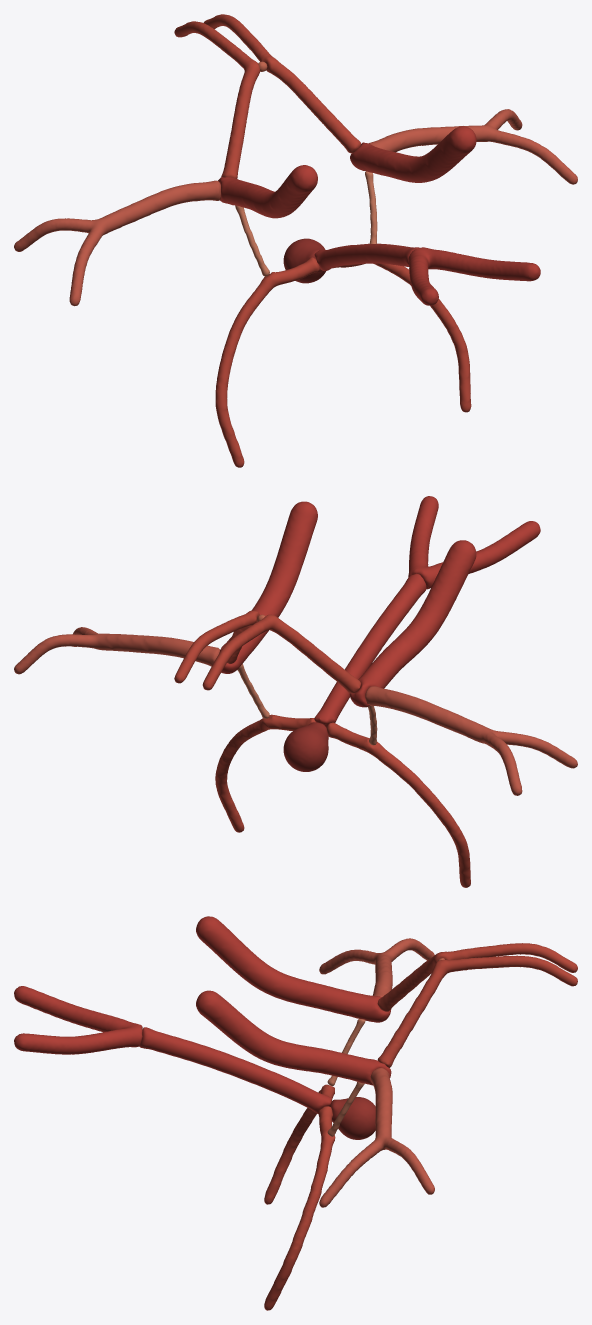
The model's file is willis_basilar_aneurysm.glb.
The picture shows the model from 3 angles, top to bottom: view 1: azimuth 30°, elevation 25°; view 2: azimuth 150°, elevation 25°; view 3: azimuth 270°, elevation 25°; orthographic projection. The views are drawn at different scales.
Visible parts, largest first — view 1: middle_cerebrals, internal_carotids, anterior_cerebrals, posterior_cerebrals, vertebral_arteries, basilar_artery, posterior_communicatings, aneurysm; view 2: internal_carotids, middle_cerebrals, posterior_cerebrals, anterior_cerebrals, basilar_artery, vertebral_arteries, aneurysm, posterior_communicatings; view 3: internal_carotids, anterior_cerebrals, middle_cerebrals, vertebral_arteries, basilar_artery, posterior_cerebrals, aneurysm, posterior_communicatings.
Boxes of the visible parts, <box> form: middle_cerebrals: <box>14,109,577,306</box>; internal_carotids: <box>218,126,476,218</box>; anterior_cerebrals: <box>174,14,360,178</box>; posterior_cerebrals: <box>215,257,471,467</box>; vertebral_arteries: <box>408,247,540,305</box>; basilar_artery: <box>314,243,419,271</box>; posterior_communicatings: <box>235,171,377,276</box>; aneurysm: <box>283,238,325,283</box>; internal_carotids: <box>219,501,476,707</box>; middle_cerebrals: <box>14,627,577,795</box>; posterior_cerebrals: <box>215,714,470,887</box>; anterior_cerebrals: <box>174,610,360,693</box>; basilar_artery: <box>314,573,426,727</box>; vertebral_arteries: <box>408,496,540,589</box>; aneurysm: <box>283,722,328,771</box>; posterior_communicatings: <box>237,664,377,745</box>; internal_carotids: <box>196,916,391,1085</box>; anterior_cerebrals: <box>377,943,577,1067</box>; middle_cerebrals: <box>319,938,434,1207</box>; vertebral_arteries: <box>14,986,142,1054</box>; basilar_artery: <box>139,1027,331,1113</box>; posterior_cerebrals: <box>264,1084,335,1310</box>; aneurysm: <box>329,1097,375,1139</box>; posterior_communicatings: <box>327,1018,365,1136</box>.
Size of the model in its own units: 17.9 by 10.8 by 17.99.
